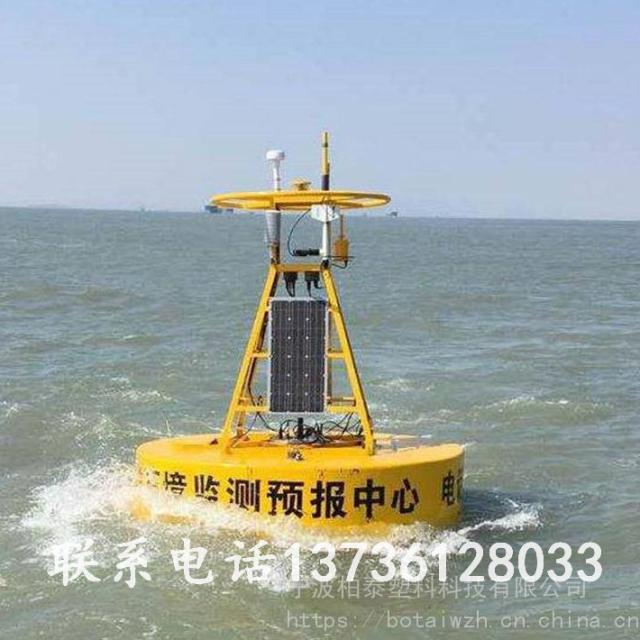buoy: (127, 121, 470, 538)
